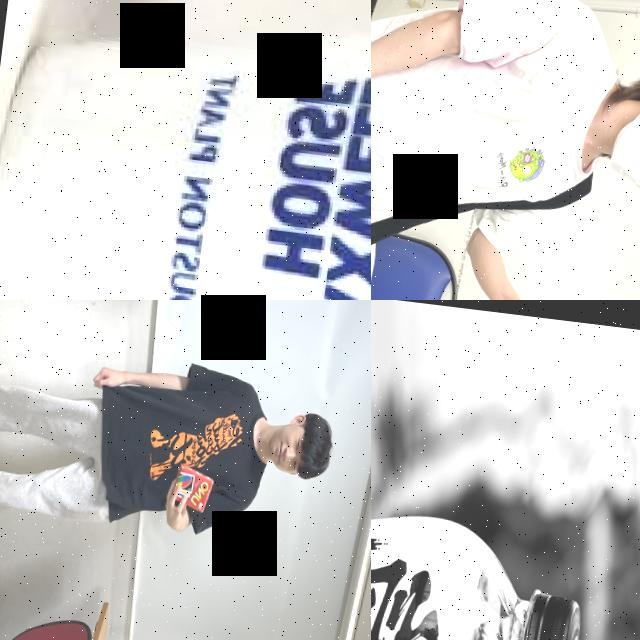bottle: (371, 475, 597, 640)
cup: (0, 0, 371, 300)
